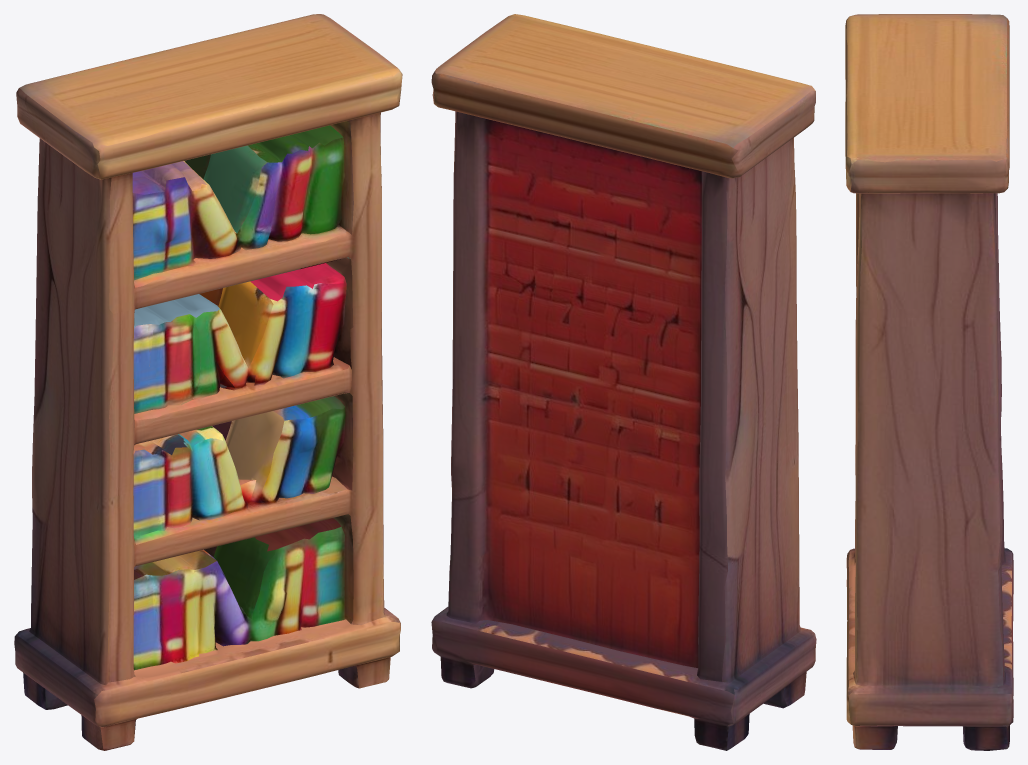
Rendered from bookshelf.glb.
The picture shows the model from 3 angles, left to right: view 1: azimuth 30°, elevation 25°; view 2: azimuth 150°, elevation 25°; view 3: azimuth 270°, elevation 25°; orthographic projection. The views are drawn at different scales.
Visible parts, largest first — view 1: bookshelf_s21; view 2: bookshelf_s21; view 3: bookshelf_s21.
Part boxes in pixels (left/top/right/bottom): bookshelf_s21: left=14, top=14, right=402, bottom=750; bookshelf_s21: left=431, top=14, right=816, bottom=750; bookshelf_s21: left=845, top=14, right=1013, bottom=750.
Size of the model in its own units: 0.5303 by 1 by 0.2552.
Materials: 1 (1 with a texture image).
